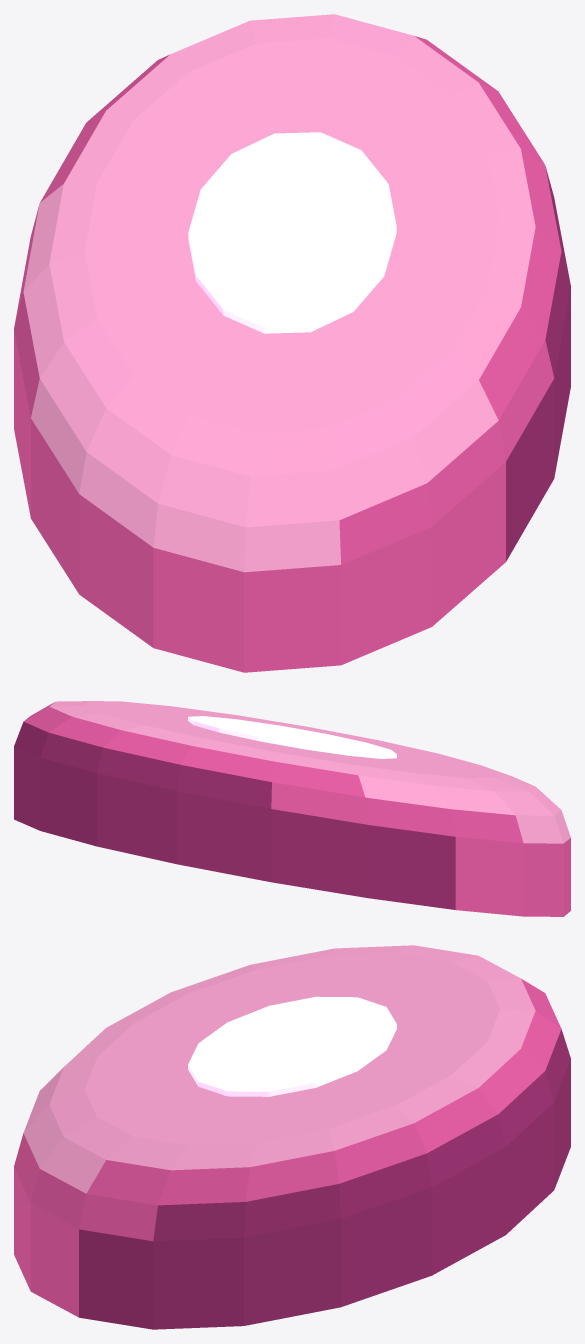
Rendered from Plate3D_LatchPad.gltf.
3 renders of one model, top to bottom at view 1: azimuth 30°, elevation 25°; view 2: azimuth 150°, elevation 25°; view 3: azimuth 270°, elevation 25°, orthographic. The views are drawn at different scales.
Parts seen in each view (by area): view 1: Plate3D_LatchPad_baked; view 2: Plate3D_LatchPad_baked; view 3: Plate3D_LatchPad_baked.
Part boxes in pixels (bbox=[...]): Plate3D_LatchPad_baked: bbox=[14, 14, 570, 672]; Plate3D_LatchPad_baked: bbox=[14, 701, 570, 916]; Plate3D_LatchPad_baked: bbox=[14, 945, 570, 1329].
Size of the model in its own units: 0.4264 by 0.2631 by 0.4.
